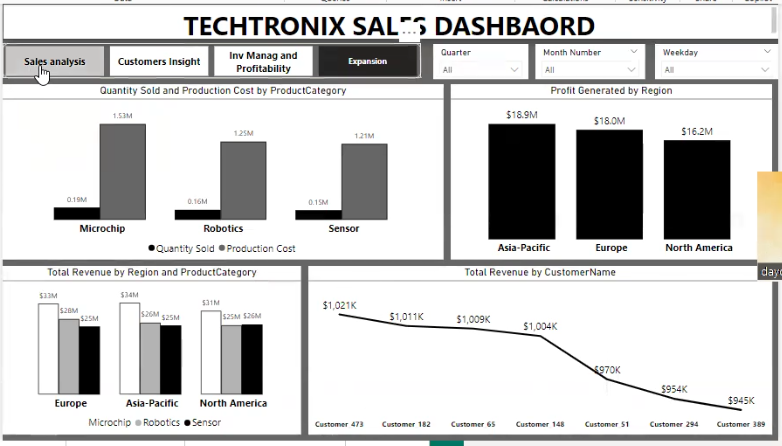

The page's visual inventory and layout, read from the dashboard file:
{"tool":"powerbi","page":{"name":"Expansion","canvas":[1280,720],"ordinal":3},"visuals":[{"type":"textbox","box":[0,0,1279.5,75.7],"z":0},{"type":"pageNavigator","box":[0,75.8,619,67.9],"z":1000},{"type":"clusteredColumnChart","fields":{"Category":["ProductDim.ProductCategory"],"Y":["Measures (2).Total Qty Sold","Measures (2).Production Cost"]},"box":[64.6,160.7,530.8,252],"z":2000},{"type":"clusteredColumnChart","fields":{"Y":["Measures (2).Total Revenue"],"Series":["ProductDim.ProductCategory"],"Category":["LocationDim.Region"]},"box":[17.3,467.8,567,252],"z":3000},{"type":"clusteredColumnChart","fields":{"Y":["Measures (2).Total Profit"],"Category":["LocationDim.Region"]},"box":[721.4,160.7,431.6,252],"z":4000},{"type":"slicer","fields":{"Values":["CalendarDim.Quarter"]},"box":[655.3,75.8,191.1,67.9],"z":5000},{"type":"slicer","fields":{"Values":["CalendarDim.Month"]},"box":[857.4,77.4,191.1,67.9],"z":6000},{"type":"slicer","fields":{"Values":["CalendarDim.Weekday"]},"box":[1059.5,78.9,219.5,67.9],"z":7000},{"type":"lineChart","fields":{"Y":["Measures (2).Total Revenue"],"Category":["CustomerDim.CustomerName"]},"box":[595.4,466.2,667.8,253.6],"z":8000}]}

Visuals, with their boxes on the page's 1280x720 design canvas (x1, y1, x2, y2). These are canvas units, not pixel positions in the 782x446 screenshot, which may show the page scaled, cropped or inside an application window:
textbox: crop(0, 0, 1280, 76)
pageNavigator: crop(0, 76, 619, 144)
clusteredColumnChart - ProductDim.ProductCategory x Measures (2).Total Qty Sold: crop(65, 161, 595, 413)
clusteredColumnChart - Measures (2).Total Revenue x ProductDim.ProductCategory: crop(17, 468, 584, 720)
clusteredColumnChart - Measures (2).Total Profit x LocationDim.Region: crop(721, 161, 1153, 413)
slicer - CalendarDim.Quarter: crop(655, 76, 846, 144)
slicer - CalendarDim.Month: crop(857, 77, 1048, 145)
slicer - CalendarDim.Weekday: crop(1060, 79, 1279, 147)
lineChart - Measures (2).Total Revenue x CustomerDim.CustomerName: crop(595, 466, 1263, 720)
